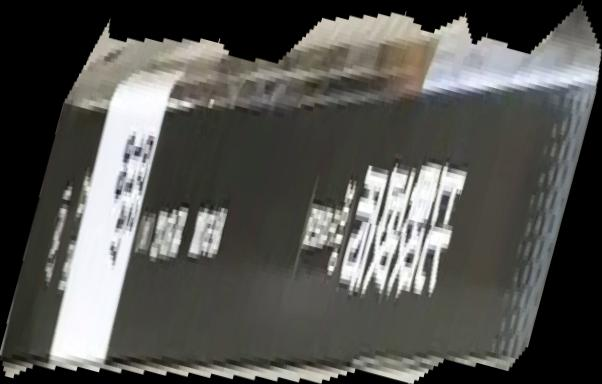flat: (1, 1, 602, 384)
